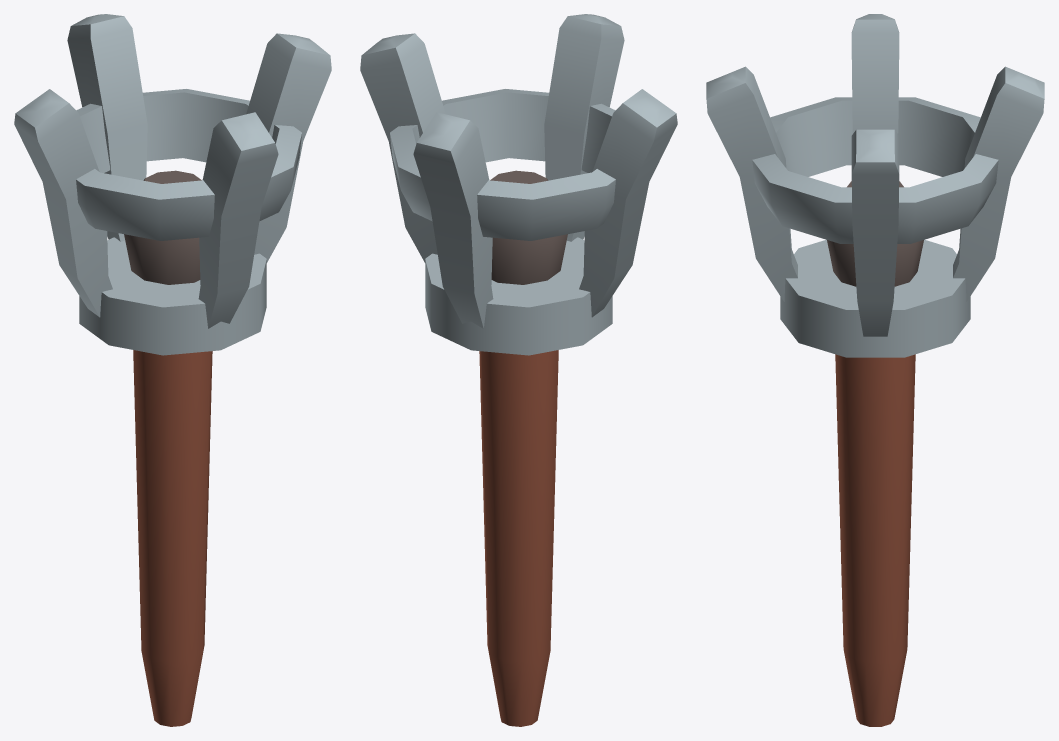
Rendered from torch.glb.
The picture shows the model from 3 angles, left to right: view 1: azimuth 30°, elevation 25°; view 2: azimuth 150°, elevation 25°; view 3: azimuth 270°, elevation 25°; orthographic projection.
Visible parts, largest first — view 1: torch; view 2: torch; view 3: torch.
Part boxes in pixels (<box>): torch: <box>14,14,331,726</box>; torch: <box>360,14,677,726</box>; torch: <box>706,14,1044,726</box>.
Size of the model in its own units: 0.1126 by 0.2387 by 0.1126.
